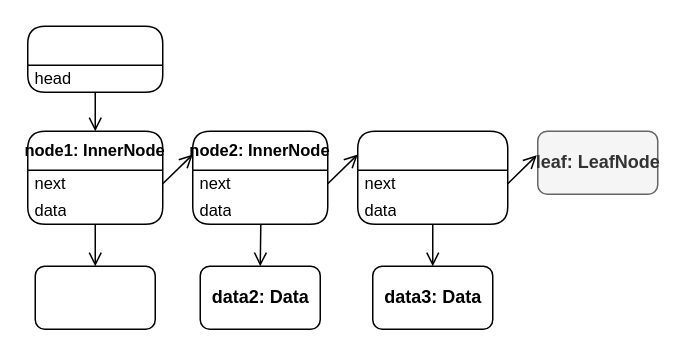
This 684x356 diagram has some shape labels left out. The box of each missing label's shape, as (x1, y1, x2, y2) in pixels:
data1: Data: (34, 265, 155, 329)
list: List: (26, 25, 163, 92)
node3: InnerNode: (356, 130, 508, 224)
